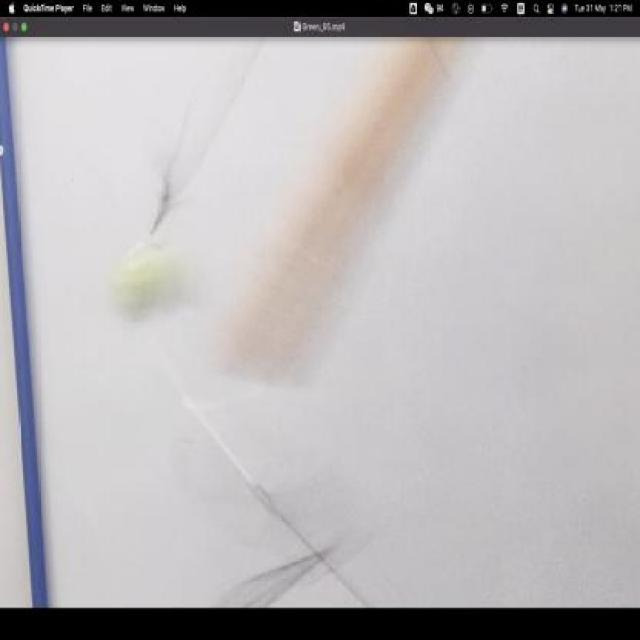baseball: (149, 239, 163, 324)
